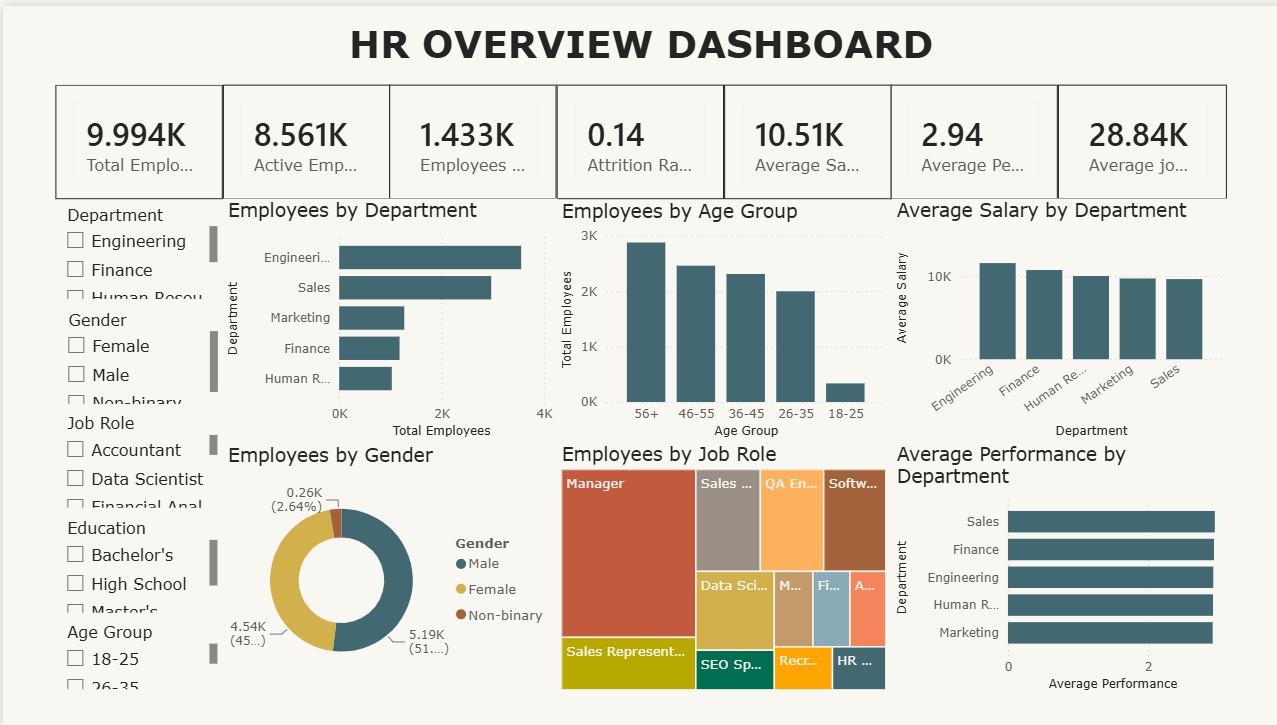

Layout of this report page (visuals, bound fields, positions):
{"tool":"powerbi","page":{"name":"HR OVERVIEW DASHBOARD","canvas":[1280,720],"ordinal":0},"visuals":[{"type":"cardVisual","fields":{"Data":["HR.Total Employees"]},"box":[52.4,78.6,167.1,114.3],"z":0},{"type":"textbox","box":[51.2,10,1173.8,68.8],"z":1000},{"type":"cardVisual","fields":{"Data":["HR.Average Performance"]},"box":[888.1,78.6,167.1,114.3],"z":2000},{"type":"cardVisual","fields":{"Data":["HR.Average Salary"]},"box":[721,78.6,167.1,114.3],"z":3000},{"type":"cardVisual","fields":{"Data":["HR.Active Employees"]},"box":[219.5,78.6,167.1,114.3],"z":4000},{"type":"cardVisual","fields":{"Data":["HR.Employees Left"]},"box":[386.7,78.6,167.1,114.3],"z":5000},{"type":"cardVisual","fields":{"Data":["HR.Attrition Rate"]},"box":[553.8,78.6,167.1,114.3],"z":6000},{"type":"cardVisual","fields":{"Data":["Sum(HR.Job Satisfaction)"]},"box":[1055.2,78.6,168.6,114.3],"z":7000},{"type":"clusteredBarChart","title":"Employees by Department","fields":{"Y":["HR.Total Employees"],"Category":["HR.Department"]},"box":[220,192.9,334.3,244.3],"z":8000},{"type":"donutChart","title":"Employees by Gender","fields":{"Category":["HR.Gender"],"Y":["HR.Total Employees"]},"box":[220,437.1,334.3,251.4],"z":9000},{"type":"columnChart","title":"Employees by Age Group","fields":{"Category":["HR.Age Group"],"Y":["HR.Total Employees"]},"box":[554.3,194.3,334.3,242.9],"z":10000},{"type":"treemap","title":"Employees by Job Role","fields":{"Values":["HR.Total Employees"],"Group":["HR.Job Role"]},"box":[554.3,435.7,334.3,252.9],"z":11000},{"type":"clusteredColumnChart","fields":{"Category":["HR.Department"],"Y":["HR.Average Salary"]},"box":[888.6,192.9,335.7,244.3],"z":12000},{"type":"barChart","fields":{"Y":["HR.Average Performance"],"Category":["HR.Department"]},"box":[888.6,435.7,335.7,252.9],"z":13000},{"type":"slicer","fields":{"Values":["HR.Department"]},"box":[51.4,194.3,168.6,104.3],"z":15000},{"type":"slicer","fields":{"Values":["HR.Gender"]},"box":[52.9,298.6,167.1,104.3],"z":16000},{"type":"slicer","fields":{"Values":["HR.Job Role"]},"box":[51.4,402.9,168.6,104.3],"z":17000},{"type":"slicer","fields":{"Values":["HR.Education"]},"box":[51.4,507.1,168.6,104.3],"z":18000},{"type":"slicer","fields":{"Values":["HR.Age Group"]},"box":[51.4,611.4,168.6,77.1],"z":19000}]}

Visuals, with their boxes in screenshot pixels (x1, y1, x2, y2), scaled from the page's 1280x720 canvas onto the 1277x725 screenshot:
cardVisual - HR.Total Employees: select_region(52, 79, 219, 194)
textbox: select_region(51, 10, 1222, 79)
cardVisual - HR.Average Performance: select_region(886, 79, 1053, 194)
cardVisual - HR.Average Salary: select_region(719, 79, 886, 194)
cardVisual - HR.Active Employees: select_region(219, 79, 386, 194)
cardVisual - HR.Employees Left: select_region(386, 79, 553, 194)
cardVisual - HR.Attrition Rate: select_region(553, 79, 719, 194)
cardVisual - Sum(HR.Job Satisfaction): select_region(1053, 79, 1221, 194)
"Employees by Department" clusteredBarChart: select_region(219, 194, 553, 440)
"Employees by Gender" donutChart: select_region(219, 440, 553, 693)
"Employees by Age Group" columnChart: select_region(553, 196, 887, 440)
"Employees by Job Role" treemap: select_region(553, 439, 887, 693)
clusteredColumnChart - HR.Department x HR.Average Salary: select_region(887, 194, 1221, 440)
barChart - HR.Average Performance x HR.Department: select_region(887, 439, 1221, 693)
slicer - HR.Department: select_region(51, 196, 219, 301)
slicer - HR.Gender: select_region(53, 301, 219, 406)
slicer - HR.Job Role: select_region(51, 406, 219, 511)
slicer - HR.Education: select_region(51, 511, 219, 616)
slicer - HR.Age Group: select_region(51, 616, 219, 693)
